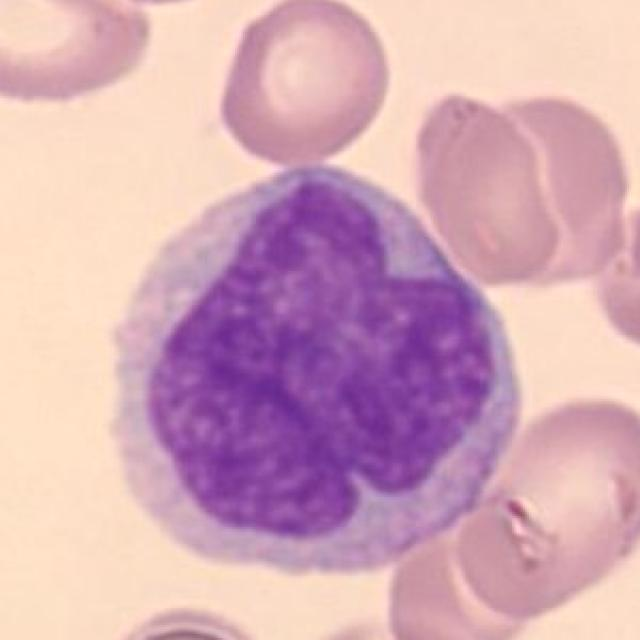WBC: (109, 154, 529, 591)
